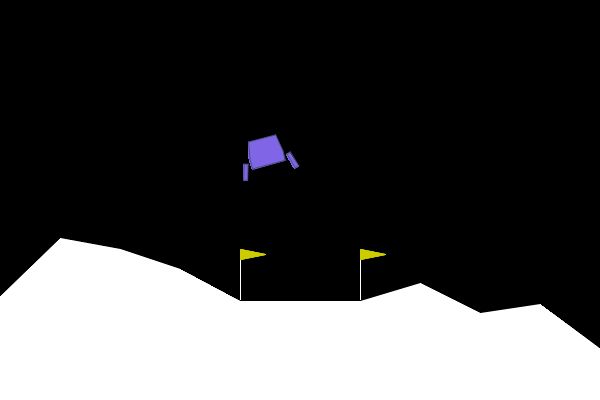lander: (232, 129, 300, 183)
